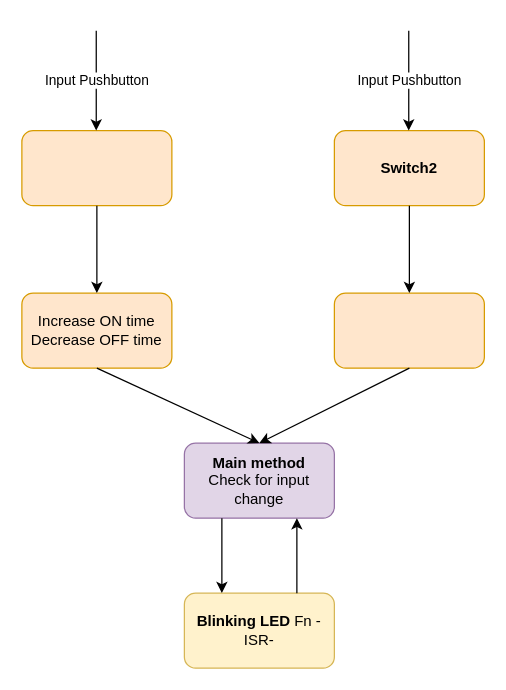
The diagram is 506 pixels wide and 690 high, and some of its shapes have lost their labels. The box of each missing label's shape, as (x1, y1, x2, y2) in pixels:
Increase OFF time Decrease ON time: (333, 292, 484, 368)
Switch1: (21, 129, 172, 206)
